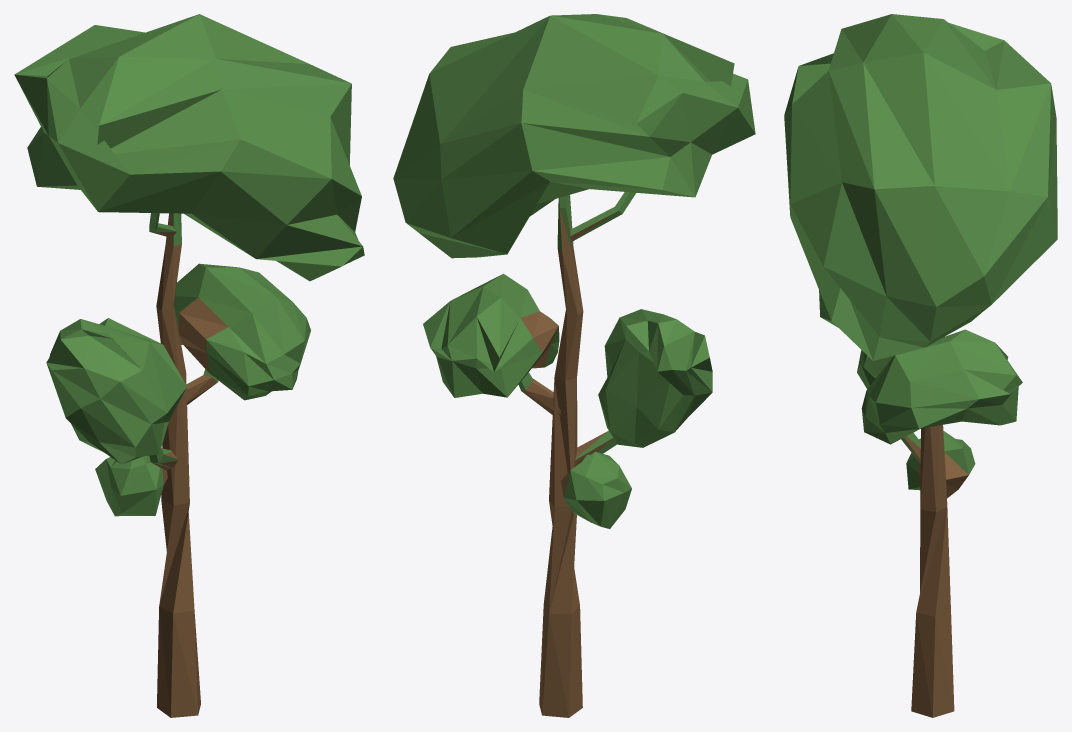
File: tree3d-141.glb
3 views of the same model, side by side, from view 1: azimuth 30°, elevation 25°; view 2: azimuth 150°, elevation 25°; view 3: azimuth 270°, elevation 25° (orthographic). The views are drawn at different scales.
Parts seen in each view (by area): view 1: tree3d-141; view 2: tree3d-141; view 3: tree3d-141.
Part boxes in pixels (x1,y1,x2,y2): tree3d-141: (14,14,364,717); tree3d-141: (393,14,755,717); tree3d-141: (784,14,1057,717).
Bounding box in the file's own units: 0.4657 × 1 × 0.3744.
